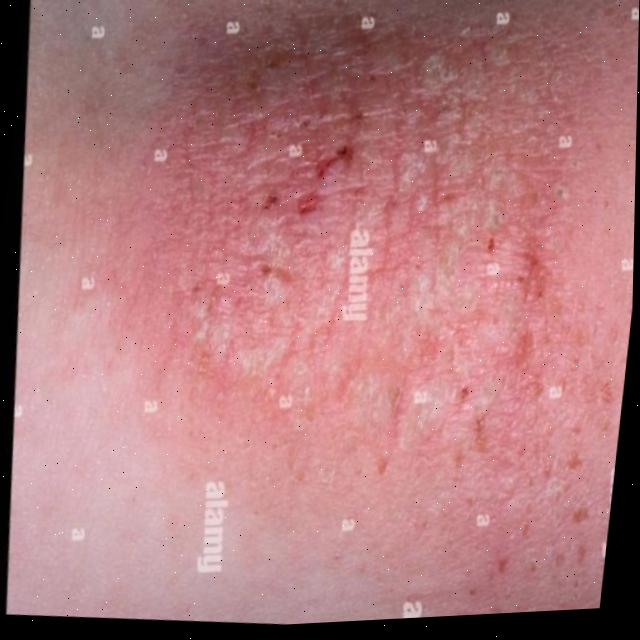Eczema: (126, 0, 581, 602)
